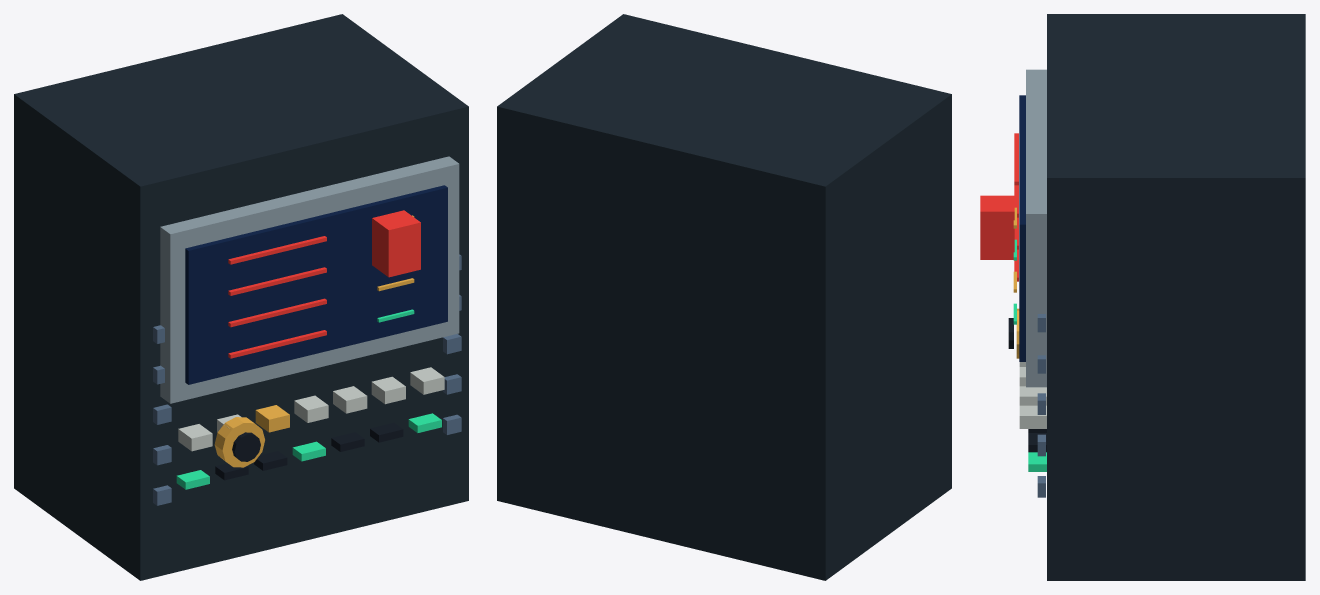
Rendered from 36_L84_GyroBiasThermalFaultEmulator.fbx.
The picture shows the model from 3 angles, left to right: view 1: azimuth 30°, elevation 25°; view 2: azimuth 150°, elevation 25°; view 3: azimuth 270°, elevation 25°; orthographic projection. The views are drawn at different scales.
Visible parts, largest first — view 1: L84_GyroBiasThermalFaultEmulator, L84_GyroBiasThermalFaultEmulator_Part_0011, L84_GyroBiasThermalFaultEmulator_Part_0012; view 2: L84_GyroBiasThermalFaultEmulator; view 3: L84_GyroBiasThermalFaultEmulator.
Boxes of the visible parts, x1=… form: L84_GyroBiasThermalFaultEmulator: x1=14, y1=14, x2=468, y2=580; L84_GyroBiasThermalFaultEmulator_Part_0011: x1=214, y1=417, x2=264, y2=467; L84_GyroBiasThermalFaultEmulator_Part_0012: x1=232, y1=432, x2=260, y2=461; L84_GyroBiasThermalFaultEmulator: x1=497, y1=14, x2=951, y2=580; L84_GyroBiasThermalFaultEmulator: x1=980, y1=14, x2=1305, y2=580.
Size of the model in its own units: 99.96 by 115 by 83.79.
